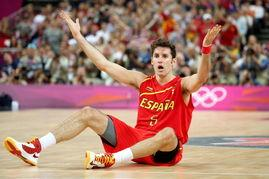bending: (4, 10, 222, 170)
